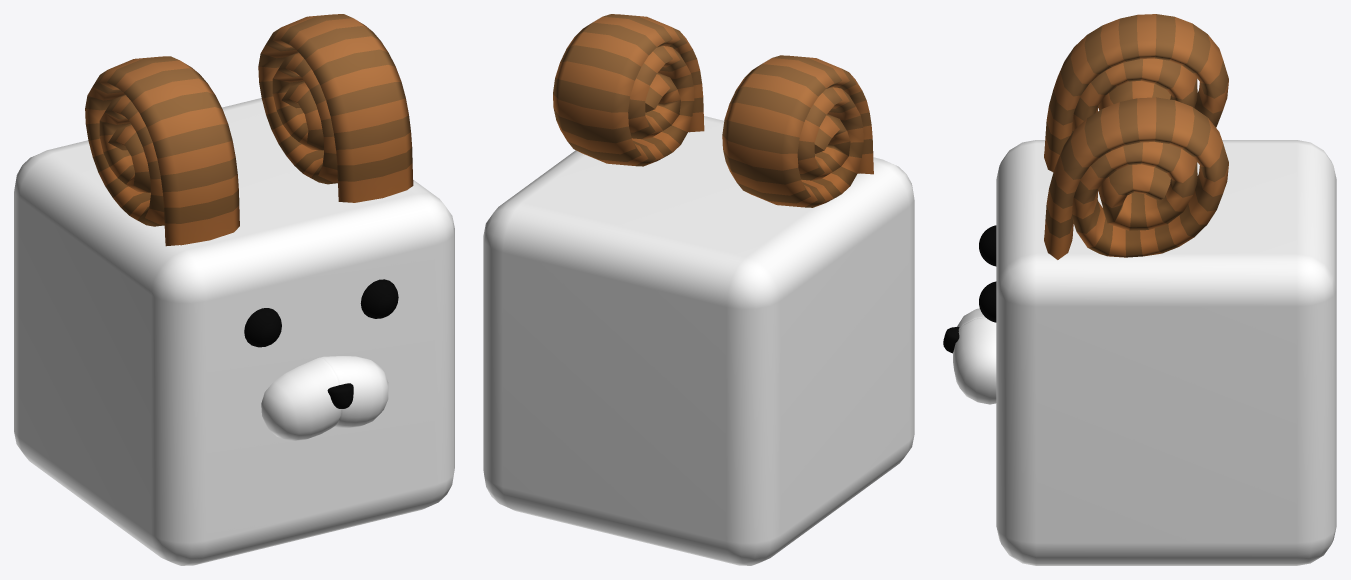
File: Goat.fbx
3 views of the same model, side by side, from view 1: azimuth 30°, elevation 25°; view 2: azimuth 150°, elevation 25°; view 3: azimuth 270°, elevation 25° (orthographic). The views are drawn at different scales.
Parts seen in each view (by area): view 1: Goat; view 2: Goat; view 3: Goat.
Boxes of the visible parts, bbox=[...] form: Goat: bbox=[14, 14, 454, 565]; Goat: bbox=[483, 14, 914, 565]; Goat: bbox=[943, 14, 1336, 565].
Size of the model in its own units: 1 by 1.43 by 1.16.
